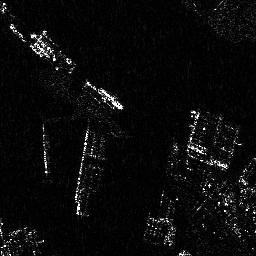ship: (33, 29, 75, 73), (98, 86, 125, 110)
